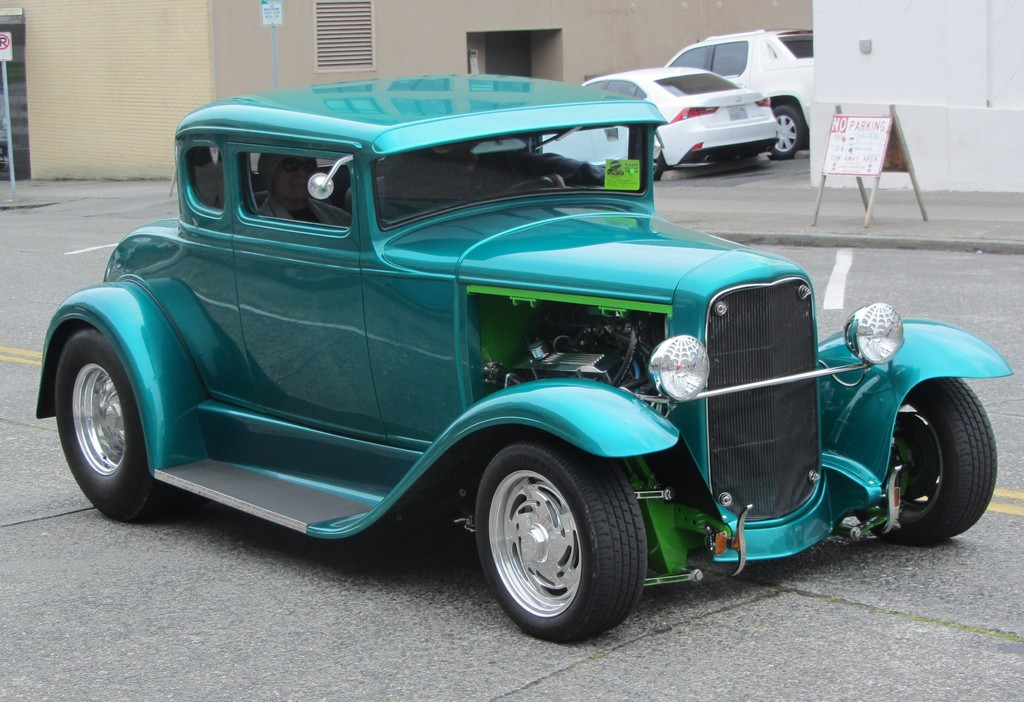car: (550, 54, 789, 171), (659, 26, 823, 152)
